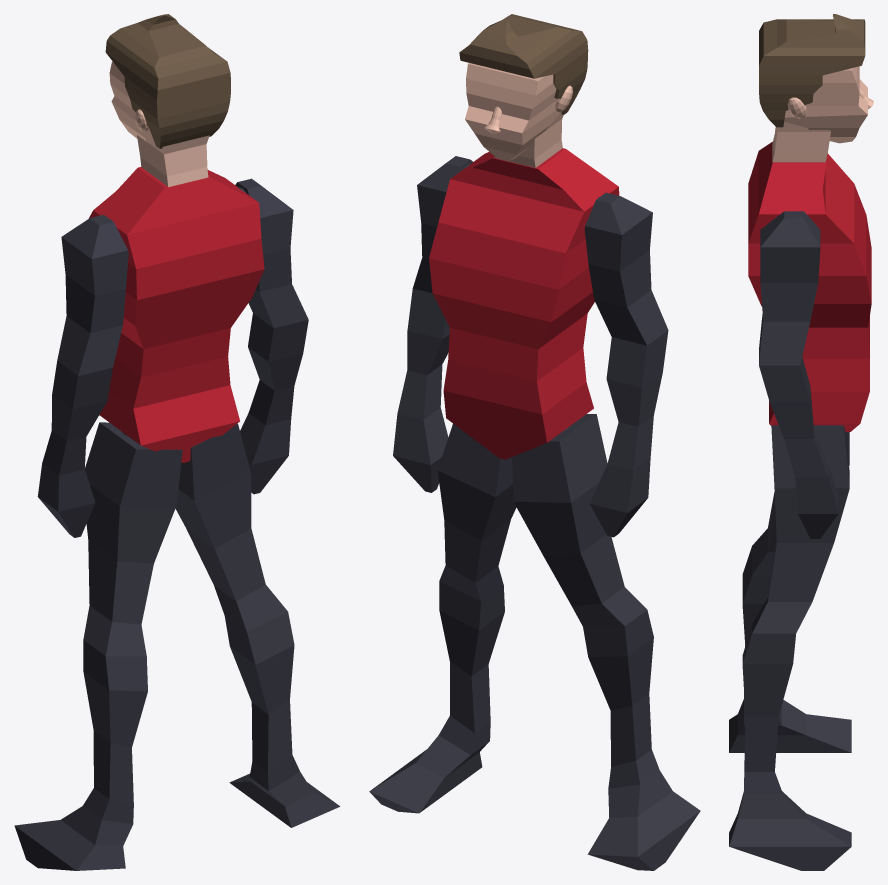
File: PeterParkerFinished.fbx
3 views of the same model, side by side, from view 1: azimuth 30°, elevation 25°; view 2: azimuth 150°, elevation 25°; view 3: azimuth 270°, elevation 25° (orthographic). The views are drawn at different scales.
Visible parts, largest first — view 1: Legs, Body, Arms, Hair, Neck, Head; view 2: Legs, Body, Arms, Hair, Head, Neck; view 3: Legs, Body, Arms, Hair, Head, Neck, Ears.
Boxes of the visible parts, box(x1,y1,x2,y2) form: Legs: box(14, 422, 339, 870); Body: box(89, 167, 264, 462); Arms: box(37, 178, 308, 537); Hair: box(105, 14, 230, 148); Neck: box(137, 135, 209, 187); Head: box(109, 61, 153, 141); Legs: box(369, 414, 700, 870); Body: box(429, 148, 619, 459); Arms: box(393, 156, 668, 537); Hair: box(459, 14, 588, 114); Head: box(465, 63, 560, 160); Neck: box(494, 112, 563, 167); Legs: box(729, 425, 851, 870); Body: box(748, 141, 871, 431); Arms: box(759, 211, 838, 538); Hair: box(759, 14, 865, 127); Head: box(784, 66, 867, 143); Neck: box(772, 121, 830, 162); Ears: box(787, 97, 806, 118).
Bounding box in the file's own units: 92.86 × 268 × 43.97.
